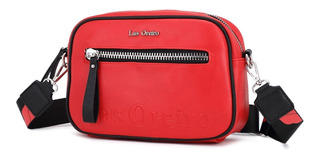cartera: (15, 9, 305, 145)
